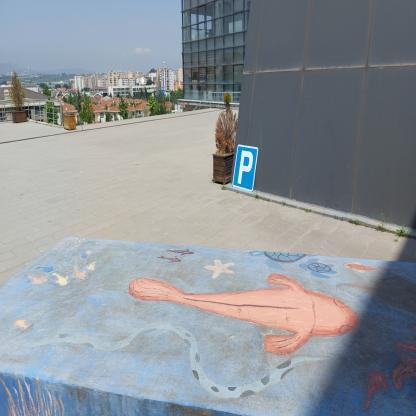parking: (232, 143, 259, 193)
